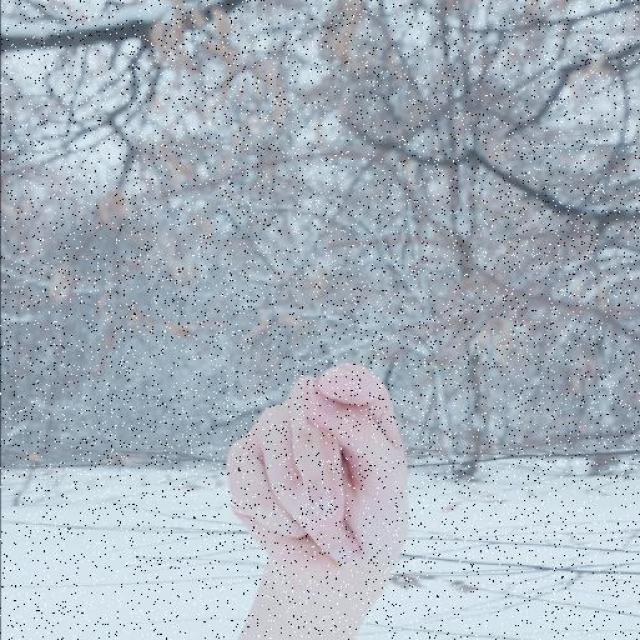P: (219, 357, 412, 596)
